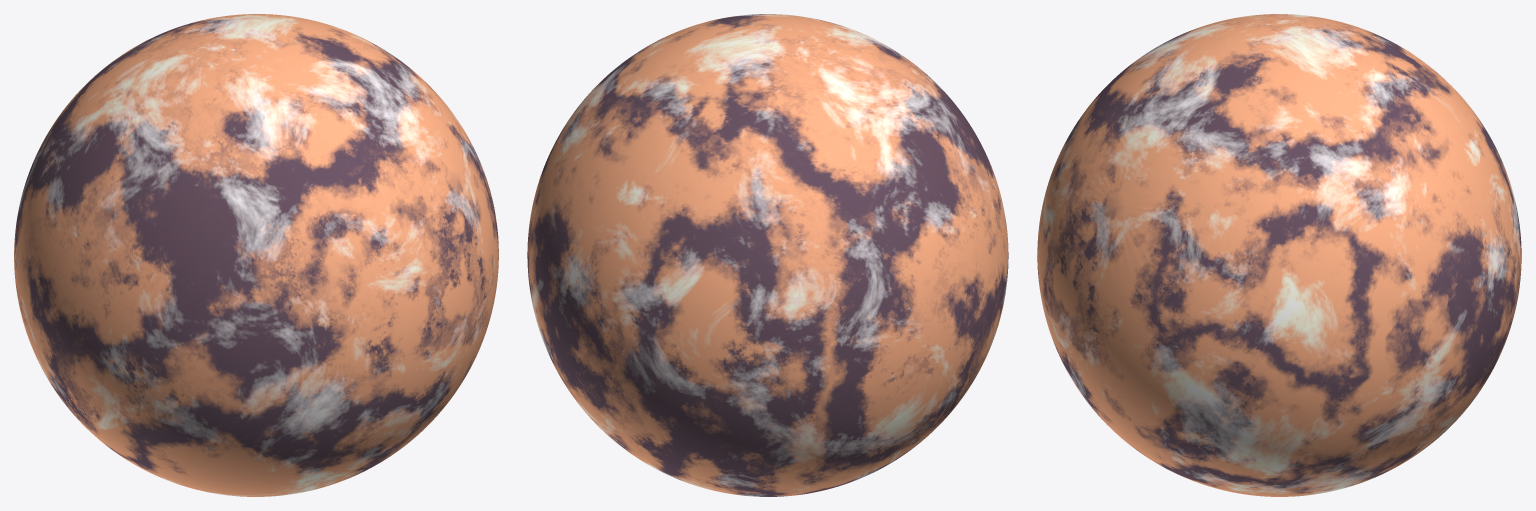
File: tattooine.glb
The picture shows the model from 3 angles, left to right: view 1: azimuth 30°, elevation 25°; view 2: azimuth 150°, elevation 25°; view 3: azimuth 270°, elevation 25°; orthographic projection.
Parts seen in each view (by area): view 1: Tatooine; view 2: Tatooine; view 3: Tatooine.
Boxes of the visible parts, x1,y1,x2,y2 form: Tatooine: (14,14,498,496); Tatooine: (527,14,1008,496); Tatooine: (1037,14,1521,496).
Size of the model in its own units: 1.98 by 1.98 by 1.98.
1 material, 1 textured.
